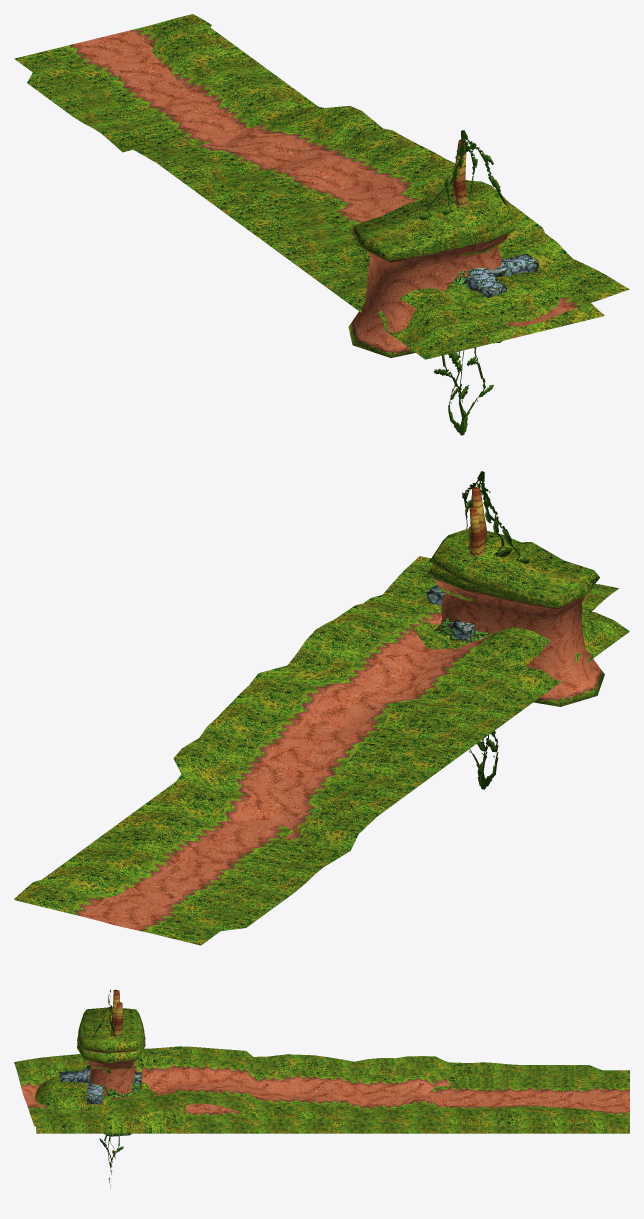
The model's file is Props.glb.
3 views of the same model, one above another, from view 1: azimuth 30°, elevation 25°; view 2: azimuth 150°, elevation 25°; view 3: azimuth 270°, elevation 25° (orthographic). The views are drawn at different scales.
Visible parts, largest first — view 1: Cenario1, CaminhoTemplate, Platform3, Morro2, Platform5, Platform4, Morro1, Vinha2, Murinho2, Vinha3, Vinha4, Tronco2; view 2: Cenario1, CaminhoTemplate, Platform3, Platform4, Platform5, Morro1, Morro2, Vinha3; view 3: Cenario1, CaminhoTemplate, Morro2, Platform4, Platform5, Morro1, Platform3, Murinho2, Platform2.
Part boxes in pixels (x1,y1,x2,y2): Cenario1: (27,14,629,340); CaminhoTemplate: (14,27,584,353); Platform3: (348,217,490,357); Morro2: (341,267,604,359); Platform5: (356,202,515,288); Platform4: (380,184,513,291); Morro1: (331,272,602,359); Vinha2: (433,130,506,435); Murinho2: (490,253,538,277); Vinha3: (418,131,464,434); Vinha4: (441,133,493,433); Tronco2: (453,139,468,207); Cenario1: (14,556,618,932); CaminhoTemplate: (14,701,529,945); Platform3: (462,560,604,706); Platform4: (429,528,564,636); Platform5: (427,542,592,602); Morro1: (451,612,629,706); Morro2: (414,597,629,695); Vinha3: (481,472,530,789); Cenario1: (14,1046,629,1132); CaminhoTemplate: (37,1070,629,1133); Morro2: (35,1075,185,1133); Platform4: (77,1018,145,1095); Platform5: (77,1007,145,1069); Morro1: (42,1065,185,1133); Platform3: (80,1007,142,1024); Murinho2: (87,1077,141,1104); Platform2: (85,1059,133,1068).
Bounding box in the file's own units: 12.68 × 16.49 × 41.85.
Materials: 1 (1 with a texture image).
